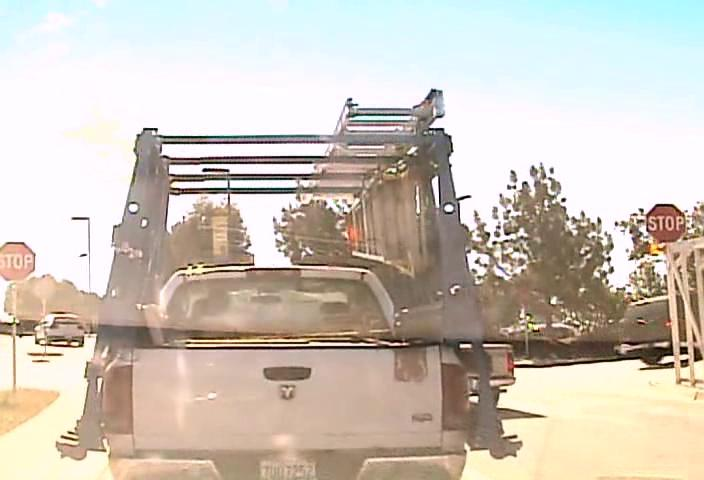stop: (645, 203, 686, 242)
